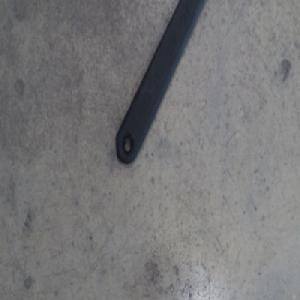AdjustableWrench: (116, 0, 207, 164)
